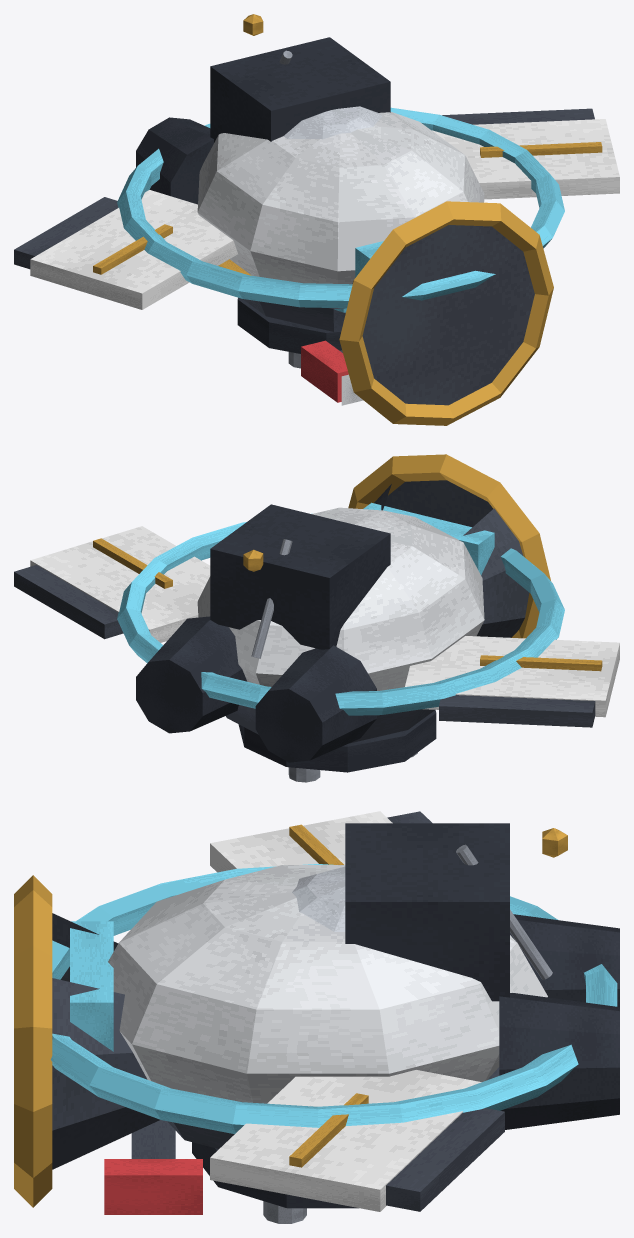
File: drone_collector.glb
3 views of the same model, one above another, from view 1: azimuth 30°, elevation 25°; view 2: azimuth 150°, elevation 25°; view 3: azimuth 270°, elevation 25° (orthographic). The views are drawn at different scales.
Visible parts, largest first — view 1: drone_collector, halo; view 2: drone_collector, halo; view 3: drone_collector, halo.
Boxes of the visible parts, bbox=[...] form: drone_collector: bbox=[14, 14, 619, 425]; halo: bbox=[117, 107, 564, 308]; drone_collector: bbox=[14, 454, 619, 782]; halo: bbox=[117, 513, 564, 715]; drone_collector: bbox=[14, 811, 619, 1223]; halo: bbox=[51, 864, 617, 1134].
Bounding box in the file's own units: 1.64 × 0.735 × 1.11.
Materials: 2 (2 with a texture image).
